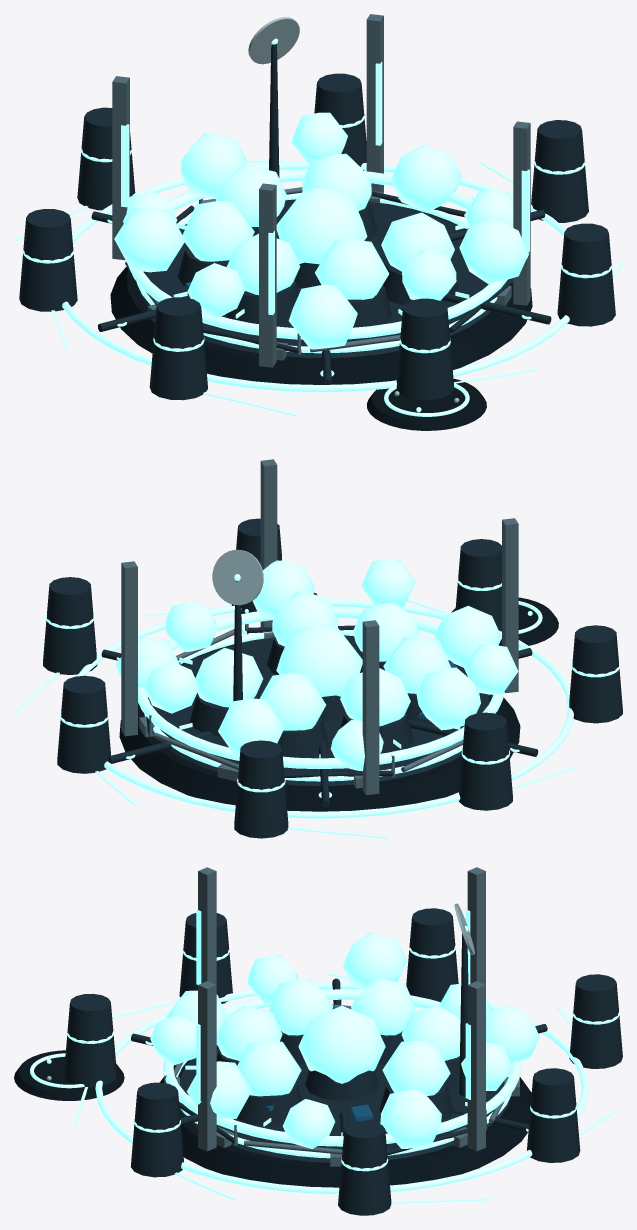
File: crystalStorage-stage4.glb
The picture shows the model from 3 angles, top to bottom: view 1: azimuth 30°, elevation 25°; view 2: azimuth 150°, elevation 25°; view 3: azimuth 270°, elevation 25°; orthographic projection. The views are drawn at different scales.
Parts seen in each view (by area): view 1: crystal-cell (×7), armored-foundation, upper-deck, refinery-annex-1, refinery-annex-6, refinery-annex-2, district-grid-3, refinery-annex-0, refinery-annex-5, logistics-ring, detail (×4), landing-pad (+25 smaller); view 2: crystal-cell (×7), armored-foundation, district-grid-3, upper-deck, refinery-annex-3, refinery-annex-2, refinery-annex-1, refinery-annex-4, logistics-ring, refinery-annex-5, detail (×3), refinery-annex-0 (+22 smaller); view 3: crystal-cell (×7), armored-foundation, district-grid-3, upper-deck, refinery-annex-5, refinery-annex-6, refinery-annex-4, refinery-annex-3, refinery-annex-0, refinery-annex-2, detail (×3), logistics-ring (+19 smaller).
Part boxes in pixels (left/top/right/bottom): crystal-cell (×7): left=182, top=153, right=454, bottom=299; armored-foundation: left=110, top=199, right=532, bottom=384; upper-deck: left=137, top=199, right=489, bottom=358; refinery-annex-1: left=149, top=297, right=207, bottom=400; refinery-annex-6: left=557, top=223, right=615, bottom=326; refinery-annex-2: left=19, top=209, right=77, bottom=311; district-grid-3: left=62, top=161, right=569, bottom=392; refinery-annex-0: left=396, top=298, right=454, bottom=400; refinery-annex-5: left=531, top=120, right=588, bottom=222; logistics-ring: left=128, top=169, right=507, bottom=339; detail (×4): left=177, top=246, right=458, bottom=327; landing-pad: left=367, top=378, right=486, bottom=430; crystal-cell (×7): left=195, top=592, right=451, bottom=730; armored-foundation: left=119, top=635, right=520, bottom=811; district-grid-3: left=76, top=599, right=573, bottom=818; upper-deck: left=144, top=635, right=489, bottom=785; refinery-annex-3: left=234, top=740, right=288, bottom=838; refinery-annex-2: left=459, top=712, right=512, bottom=810; refinery-annex-1: left=569, top=625, right=622, bottom=723; refinery-annex-4: left=57, top=675, right=110, bottom=773; logistics-ring: left=138, top=607, right=504, bottom=769; refinery-annex-5: left=43, top=577, right=97, bottom=674; detail (×3): left=190, top=692, right=413, bottom=758; refinery-annex-0: left=455, top=539, right=501, bottom=631; crystal-cell (×7): left=216, top=979, right=460, bottom=1096; armored-foundation: left=160, top=1060, right=531, bottom=1187; district-grid-3: left=95, top=982, right=588, bottom=1194; upper-deck: left=178, top=1045, right=510, bottom=1162; refinery-annex-5: left=338, top=1121, right=391, bottom=1215; refinery-annex-6: left=130, top=1082, right=183, bottom=1177; refinery-annex-4: left=527, top=1068, right=580, bottom=1162; refinery-annex-3: left=569, top=974, right=622, bottom=1068; refinery-annex-0: left=63, top=994, right=116, bottom=1087; refinery-annex-2: left=406, top=908, right=458, bottom=1002; detail (×3): left=237, top=1070, right=452, bottom=1125; logistics-ring: left=163, top=989, right=520, bottom=1146.
Size of the model in its own units: 17.12 by 7.04 by 18.25.
